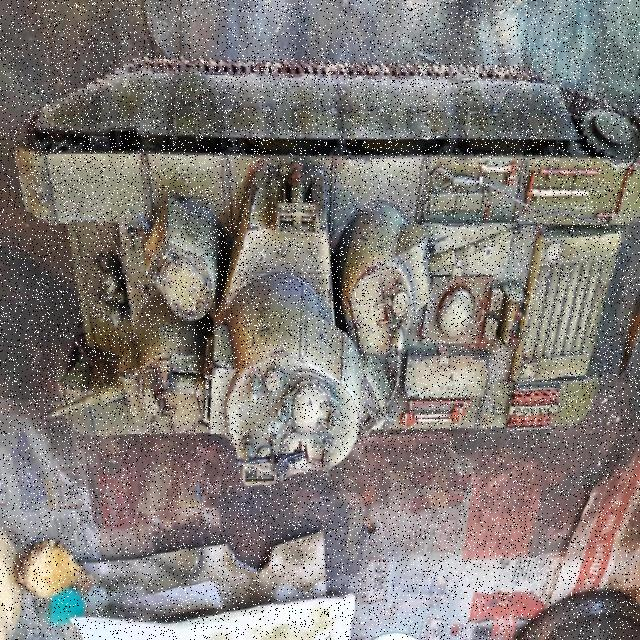MIL_MBT: (35, 70, 633, 433)
